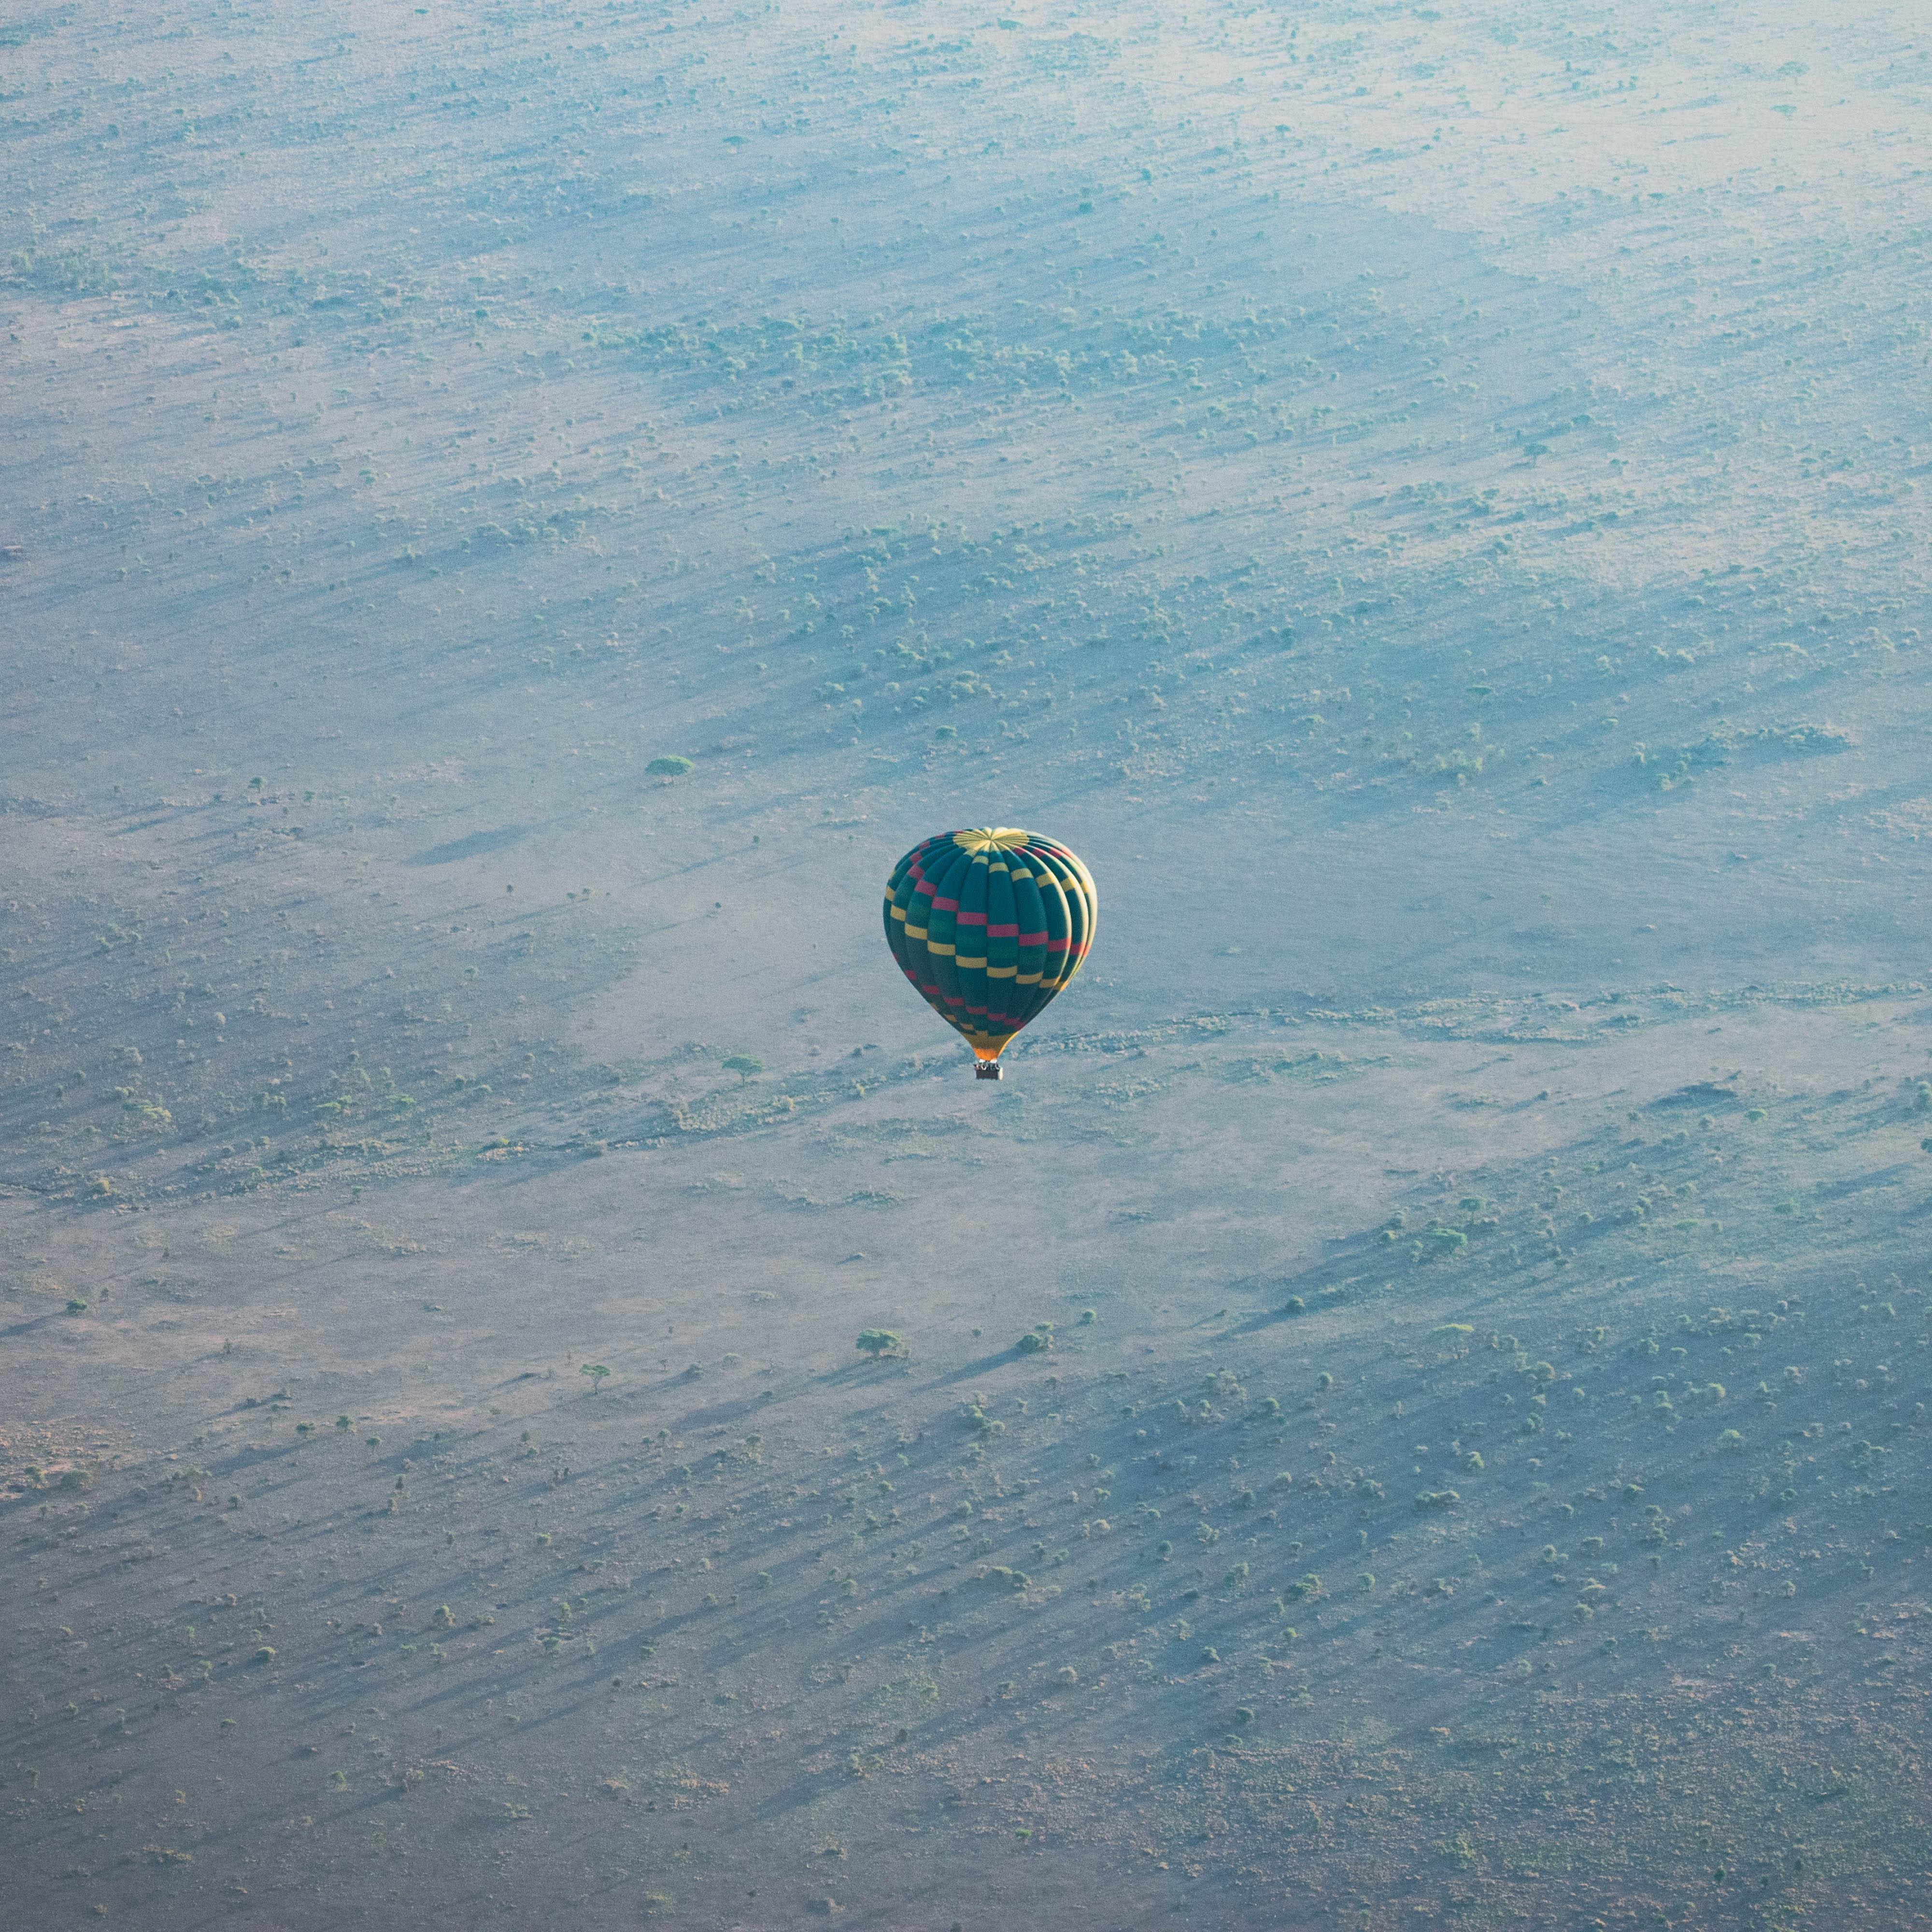hot air ballon: (881, 826, 1101, 1080)
